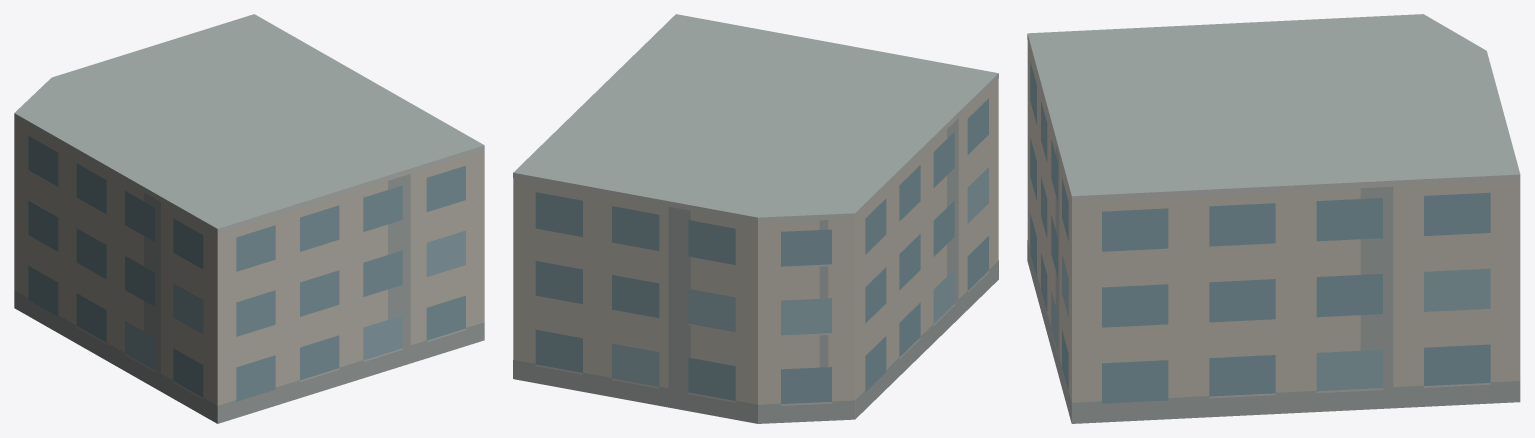
Rendered from residential-59000d0f-aacc-4864-97ff-5bb7261df132.glb.
3 views of the same model, side by side, from view 1: azimuth 30°, elevation 25°; view 2: azimuth 150°, elevation 25°; view 3: azimuth 270°, elevation 25° (orthographic). The views are drawn at different scales.
Parts seen in each view (by area): view 1: residential-59000d0f-aacc-4864-97ff-5bb7261df132.tmp; view 2: residential-59000d0f-aacc-4864-97ff-5bb7261df132.tmp; view 3: residential-59000d0f-aacc-4864-97ff-5bb7261df132.tmp.
Boxes of the visible parts, <box> form: residential-59000d0f-aacc-4864-97ff-5bb7261df132.tmp: <box>14,14,484,423</box>; residential-59000d0f-aacc-4864-97ff-5bb7261df132.tmp: <box>513,14,998,423</box>; residential-59000d0f-aacc-4864-97ff-5bb7261df132.tmp: <box>1027,14,1520,423</box>.
Size of the model in its own units: 15.72 by 9.15 by 17.97.
